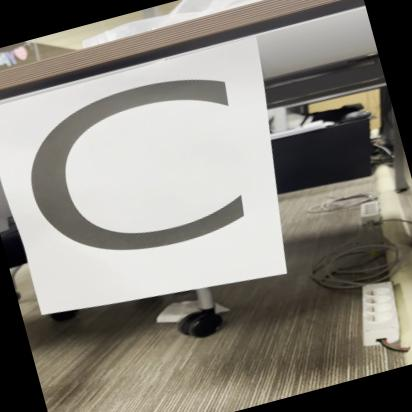seat: (0, 38, 301, 326)
